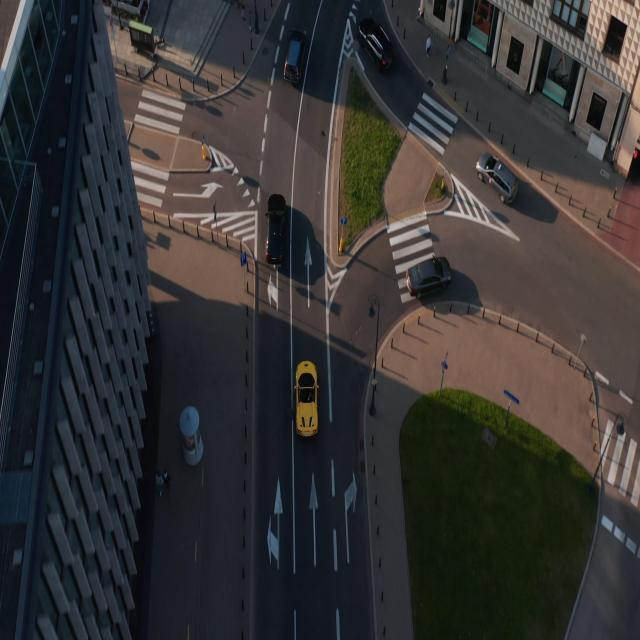Car: (475, 148, 521, 209), (404, 253, 454, 302), (293, 361, 321, 440), (356, 15, 392, 73), (264, 193, 288, 269), (282, 25, 311, 85)
